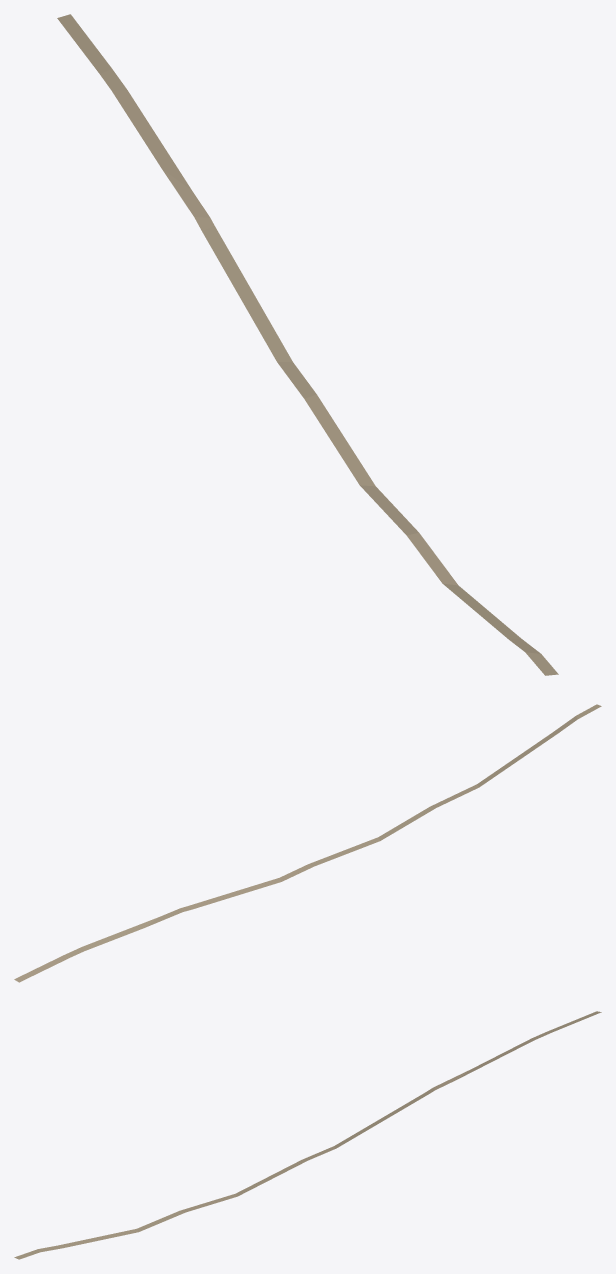
The model's file is farm_-29_-31_track.glb.
3 views of the same model, one above another, from view 1: azimuth 30°, elevation 25°; view 2: azimuth 150°, elevation 25°; view 3: azimuth 330°, elevation 25° (orthographic). The views are drawn at different scales.
Visible parts, largest first — view 1: geometry_0; view 2: geometry_0; view 3: geometry_0.
Boxes of the visible parts, left/top/right/bottom form: geometry_0: left=57, top=14, right=558, bottom=675; geometry_0: left=14, top=704, right=601, bottom=982; geometry_0: left=14, top=1011, right=601, bottom=1259.
Size of the model in its own units: 93.47 by 18.09 by 382.
